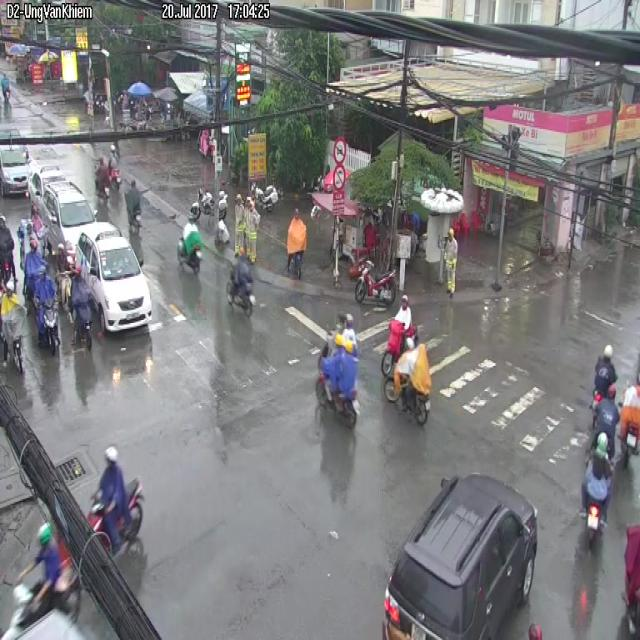car: (77, 231, 152, 330), (316, 332, 358, 425), (26, 240, 58, 351), (388, 345, 431, 424), (582, 433, 612, 532), (178, 210, 202, 271)
traffic-light: (383, 474, 537, 639), (76, 231, 152, 330), (43, 185, 97, 253)
